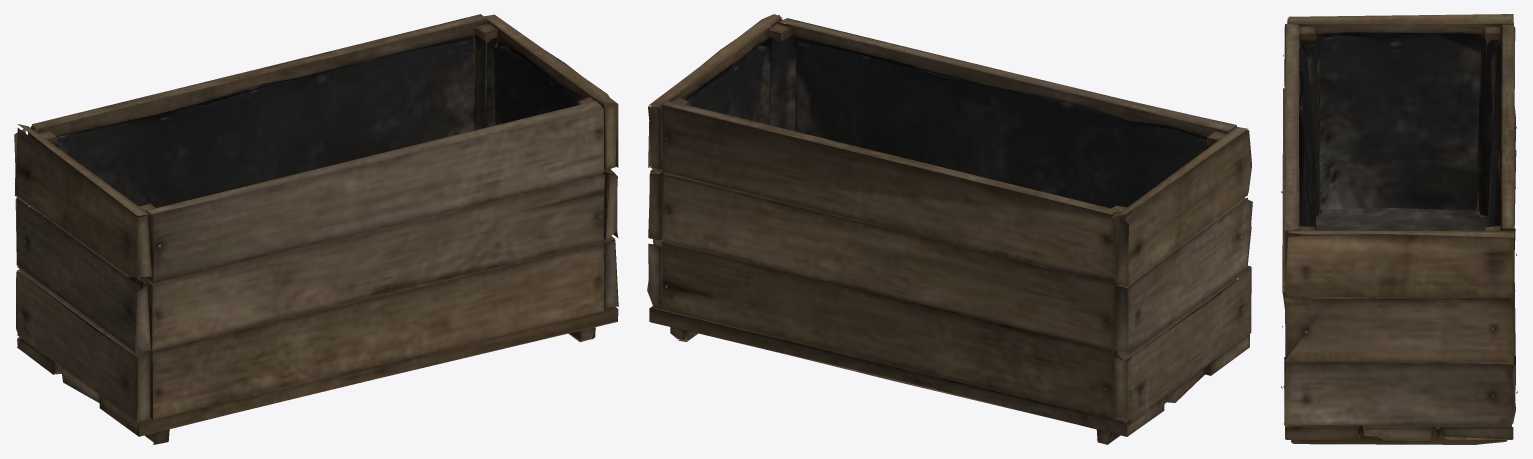
File: planter_box_01.glb
3 renders of one model, left to right at view 1: azimuth 30°, elevation 25°; view 2: azimuth 150°, elevation 25°; view 3: azimuth 270°, elevation 25°, orthographic. The views are drawn at different scales.
Parts seen in each view (by area): view 1: planter_box_01; view 2: planter_box_01; view 3: planter_box_01.
Part boxes in pixels (box(x1,y1,x2,y2)): planter_box_01: box(14, 14, 618, 444); planter_box_01: box(647, 14, 1252, 444); planter_box_01: box(1281, 14, 1517, 444).
Size of the model in its own units: 0.9161 by 0.4315 by 0.417.
Materials: 1 (1 with a texture image).
